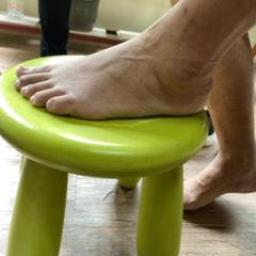Lateral View -Left Foot-: (8, 13, 228, 141)
